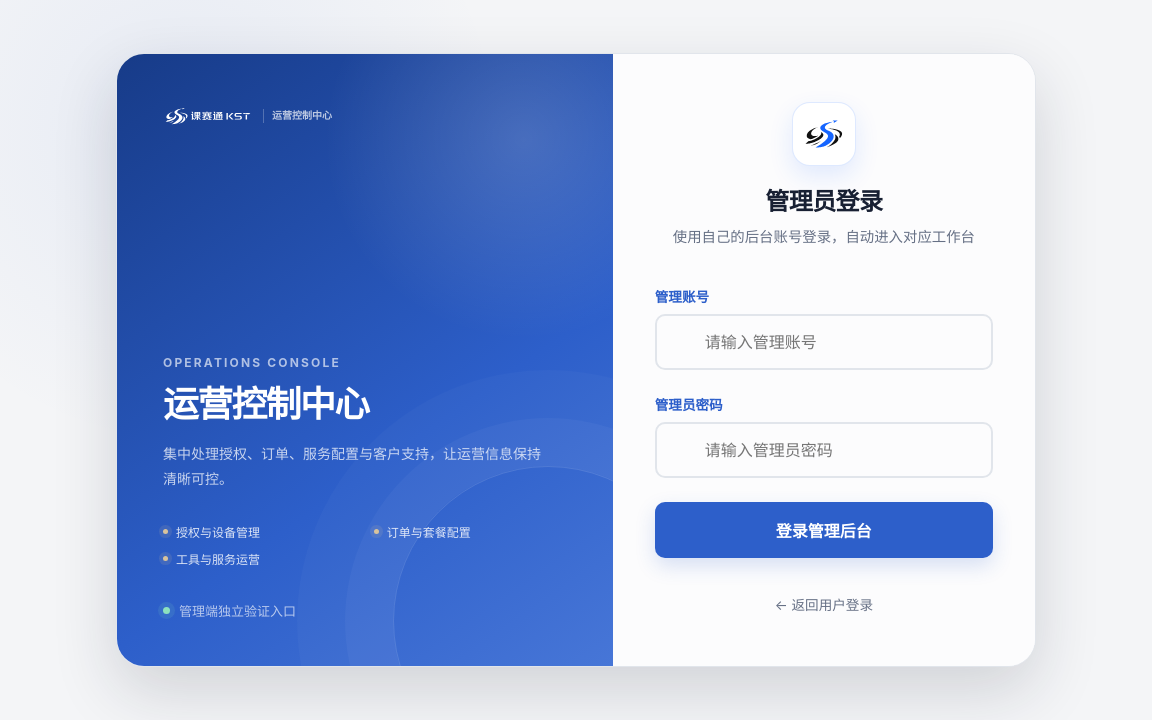
Test: AdminLoginView › 登录流程测试 › 登录过程中按钮应该显示加载状态
Type "owner" into the field with id "adminUsername" at (824, 342), box 655,314 -> 993,370
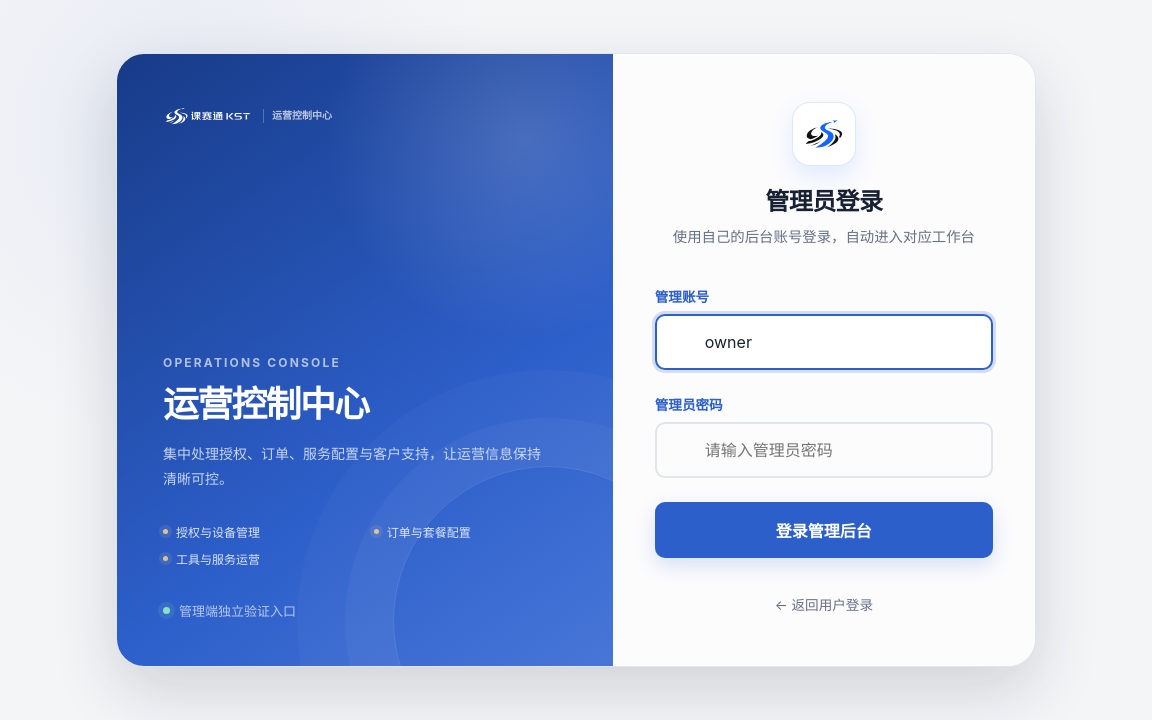
Type "Test-only-pass-123" into the password field with id "adminPassword" at (824, 450), box 655,422 -> 993,478
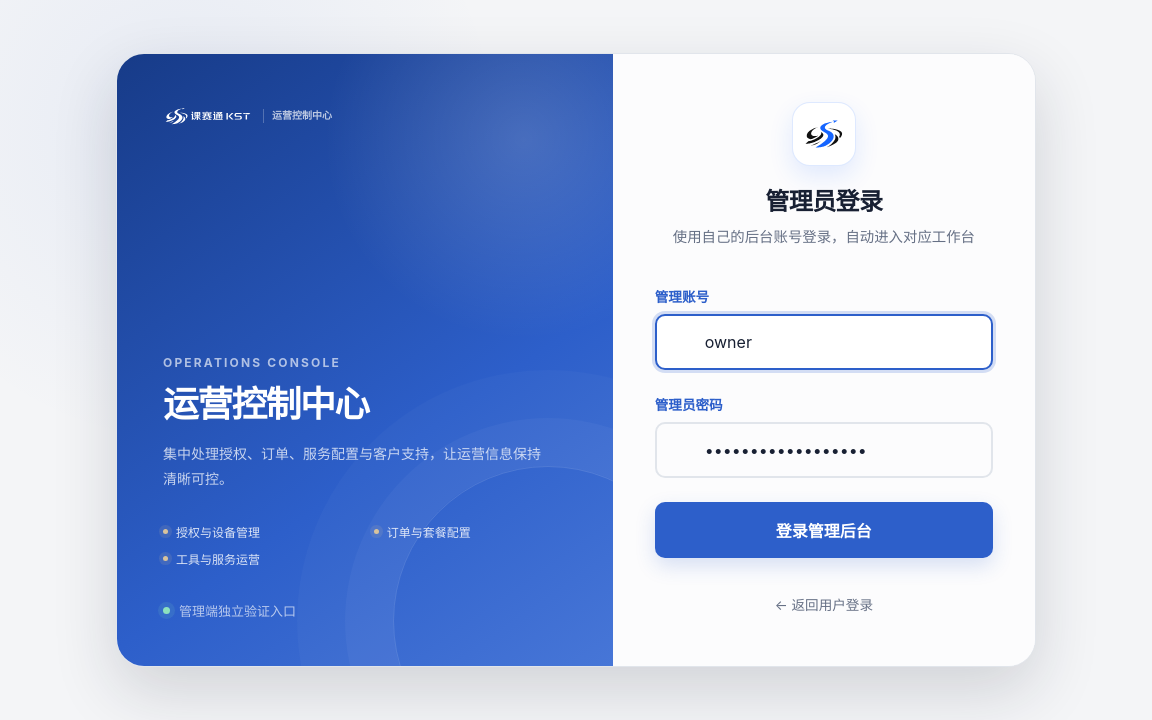
Submit the form, box 655,286 -> 993,558
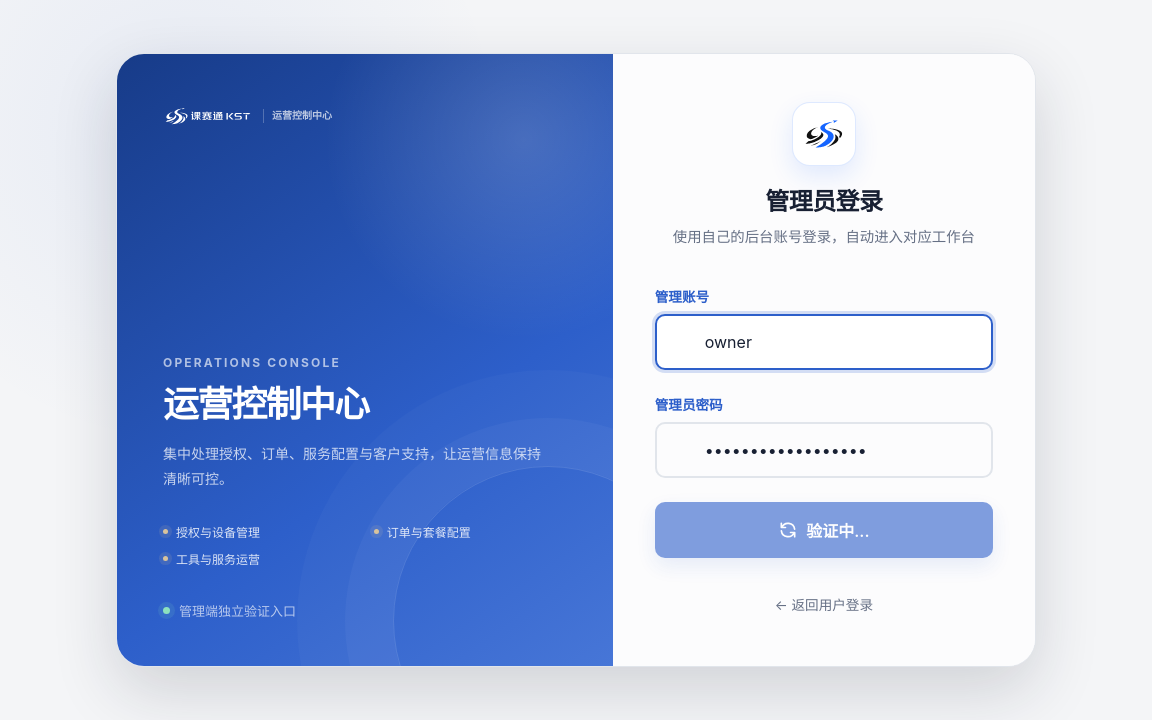
Check: the button with class "btn-login" is disabled, box 655,502 -> 993,558
Check: the button with class "btn-login" reads "验证中...", box 655,502 -> 993,558
